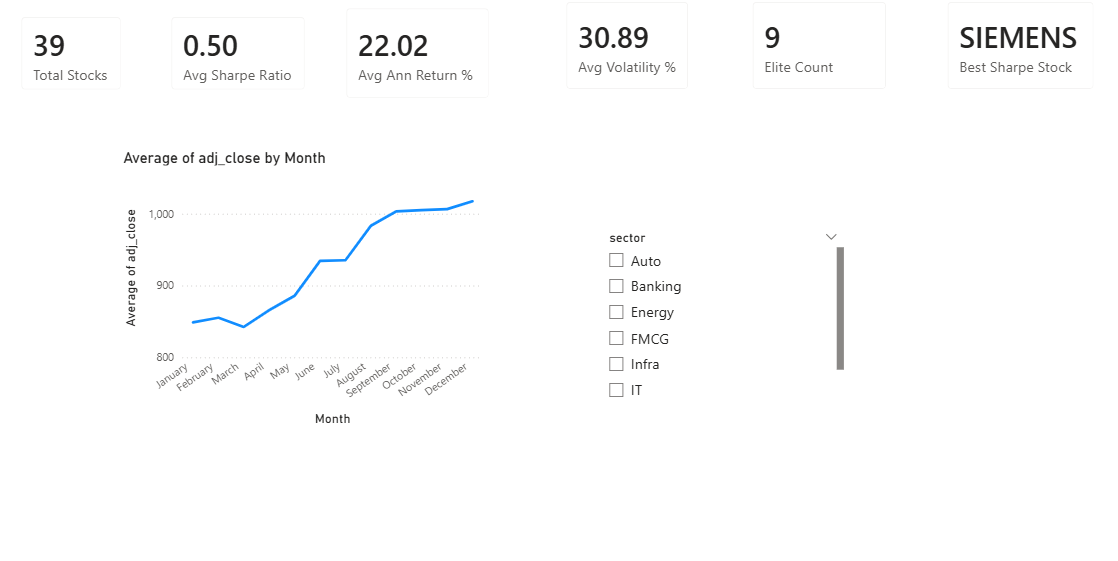

This screenshot's page, from the dashboard's own definition file:
{"tool":"powerbi","page":{"name":"Page 1","canvas":[1280,720],"ordinal":0},"visuals":[{"type":"cardVisual","fields":{"Data":["stock_metrics.Total Stocks"]},"box":[17.8,16.5,145.5,115.3],"z":0},{"type":"cardVisual","fields":{"Data":["stock_metrics.Avg Sharpe Ratio"]},"box":[185.2,16.5,183.9,115.3],"z":1000},{"type":"cardVisual","fields":{"Data":["stock_metrics.Avg Ann Return %"]},"box":[381.5,6.9,193.5,134.5],"z":2000},{"type":"cardVisual","fields":{"Data":["stock_metrics.Avg Volatility %"]},"box":[627.1,0,170.2,131.7],"z":3000},{"type":"cardVisual","fields":{"Data":["stock_metrics.Elite Count"]},"box":[834.3,0,183.9,131.7],"z":4000},{"type":"cardVisual","fields":{"Data":["stock_metrics.Best Sharpe Stock"]},"box":[1052.5,0,197.6,131.7],"z":5000},{"type":"lineChart","fields":{"Y":["Avg(stocks_features.adj_close)"],"Category":["stocks_features.date.Variation.Date Hierarchy.Year","stocks_features.date.Variation.Date Hierarchy.Month"]},"box":[144.1,179.8,411.7,315.6],"z":6000},{"type":"slicer","fields":{"Values":["stock_metrics.sector"]},"box":[677.9,266.2,279.9,207.2],"z":7000}]}

Visuals, with their boxes on the page's 1280x720 design canvas (x1, y1, x2, y2). These are canvas units, not pixel positions in the 1118x561 screenshot, which may show the page scaled, cropped or inside an application window:
cardVisual - stock_metrics.Total Stocks: [left=18, top=16, right=163, bottom=132]
cardVisual - stock_metrics.Avg Sharpe Ratio: [left=185, top=16, right=369, bottom=132]
cardVisual - stock_metrics.Avg Ann Return %: [left=382, top=7, right=575, bottom=141]
cardVisual - stock_metrics.Avg Volatility %: [left=627, top=0, right=797, bottom=132]
cardVisual - stock_metrics.Elite Count: [left=834, top=0, right=1018, bottom=132]
cardVisual - stock_metrics.Best Sharpe Stock: [left=1052, top=0, right=1250, bottom=132]
lineChart - Avg(stocks_features.adj_close) x stocks_features.date.Variation.Date Hierarchy.Year: [left=144, top=180, right=556, bottom=495]
slicer - stock_metrics.sector: [left=678, top=266, right=958, bottom=473]
